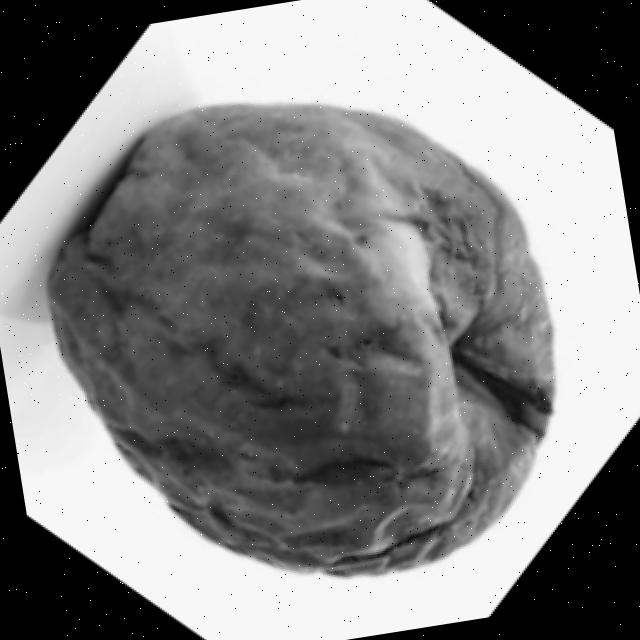Rotten: (18, 49, 598, 630)
